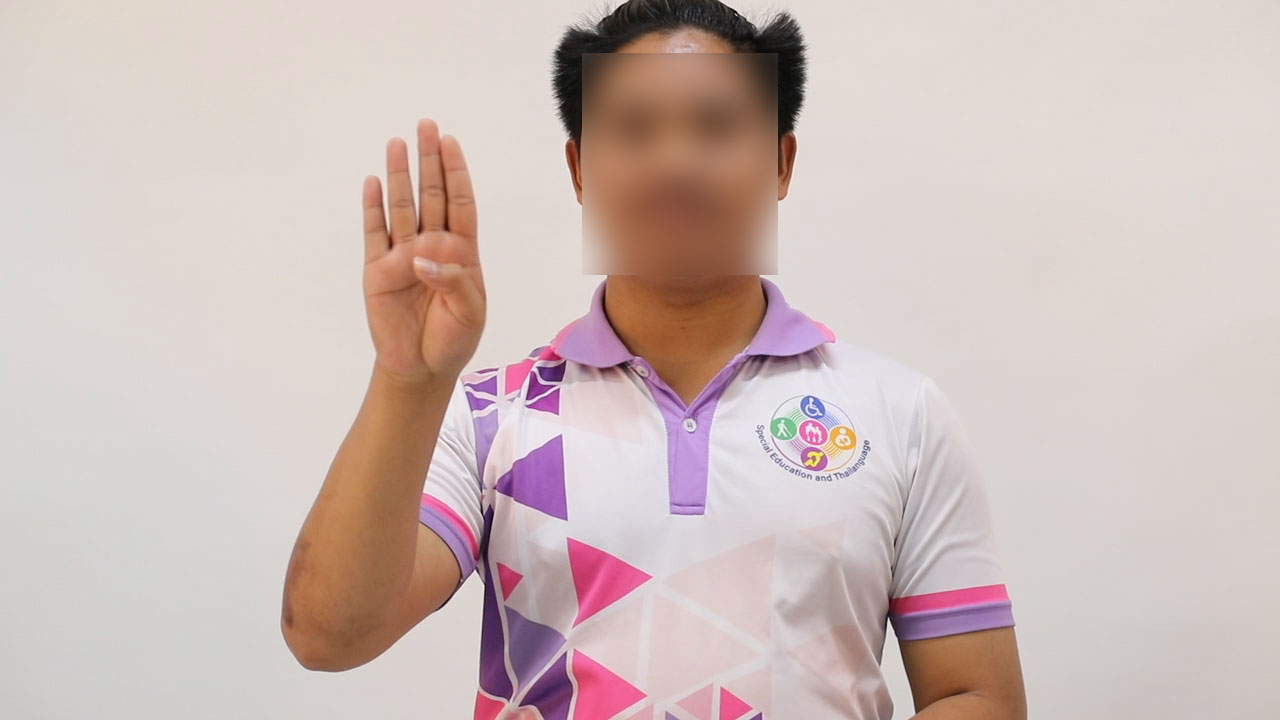bor: (350, 101, 505, 416)
